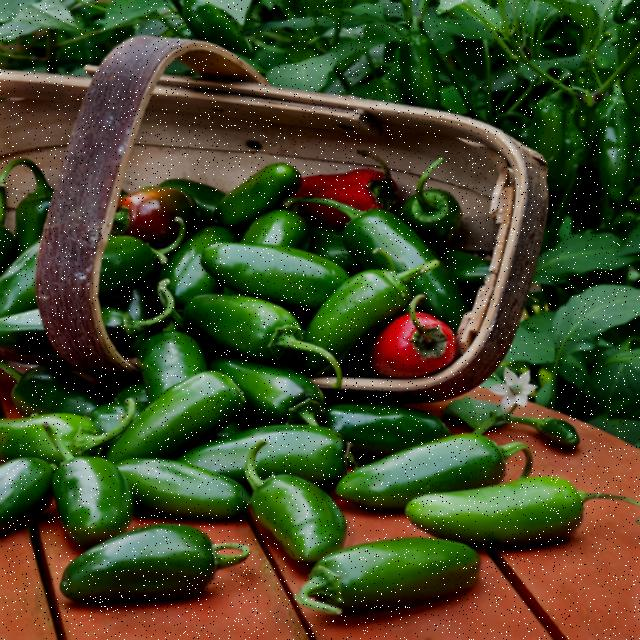Chili Pepper: (44, 523, 226, 616), (395, 483, 640, 545), (199, 228, 335, 310)
